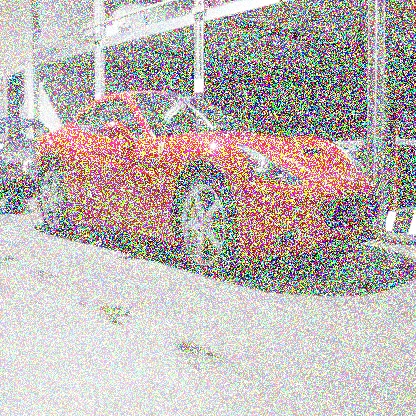Vehicle: (35, 88, 383, 280)
